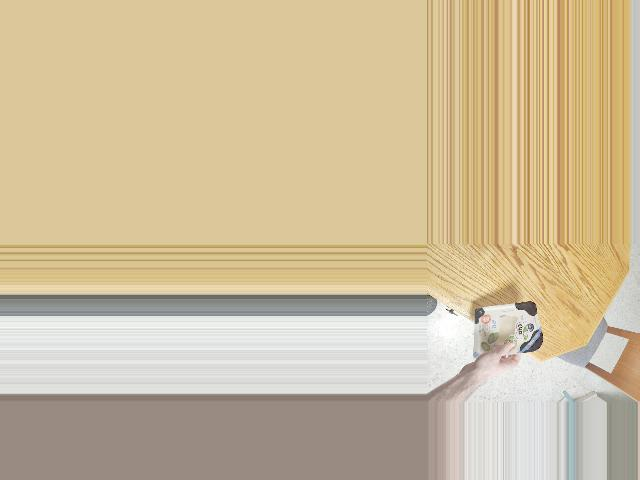cheese: (464, 307, 545, 357)
